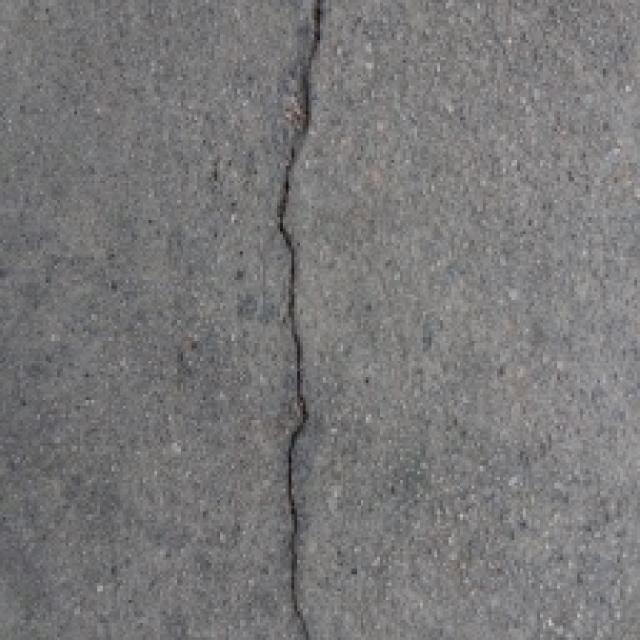crack: (234, 0, 354, 640)
